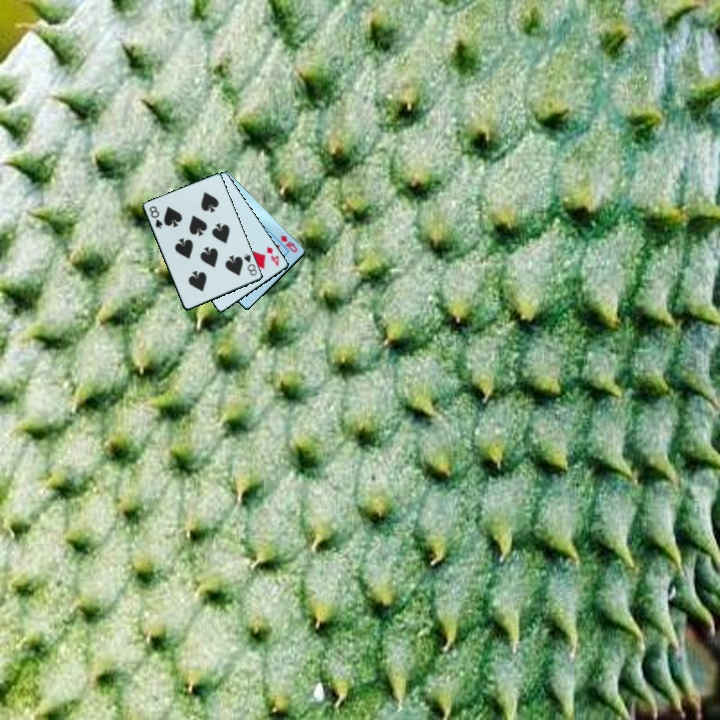4d: (263, 243, 282, 269)
8s: (146, 203, 166, 232), (241, 250, 260, 279)
Qd: (277, 232, 300, 255)
